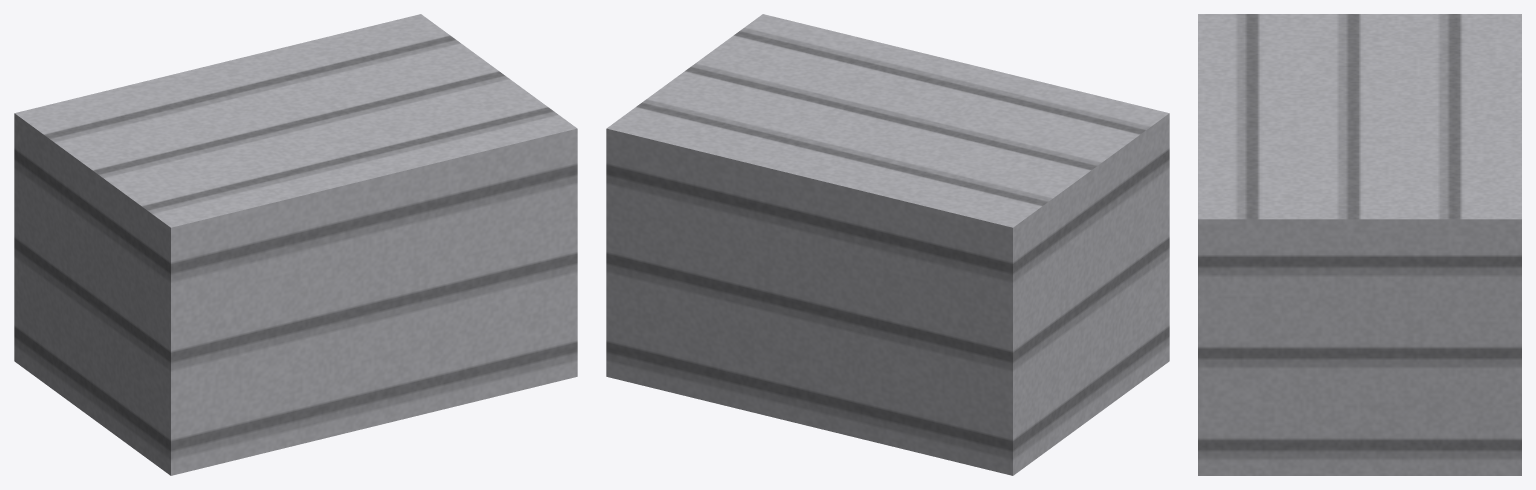
The model's file is toy_storage_bins.glb.
3 renders of one model, left to right at view 1: azimuth 30°, elevation 25°; view 2: azimuth 150°, elevation 25°; view 3: azimuth 270°, elevation 25°, orthographic. The views are drawn at different scales.
Parts seen in each view (by area): view 1: toy_storage_bins-col; view 2: toy_storage_bins-col; view 3: toy_storage_bins-col.
Part boxes in pixels (x1,y1,x2,y2): toy_storage_bins-col: (14, 14, 577, 475); toy_storage_bins-col: (606, 14, 1169, 475); toy_storage_bins-col: (1198, 14, 1521, 475).
Bounding box in the file's own units: 0.6 × 0.35 × 0.4.
Materials: 1 (1 with a texture image).
